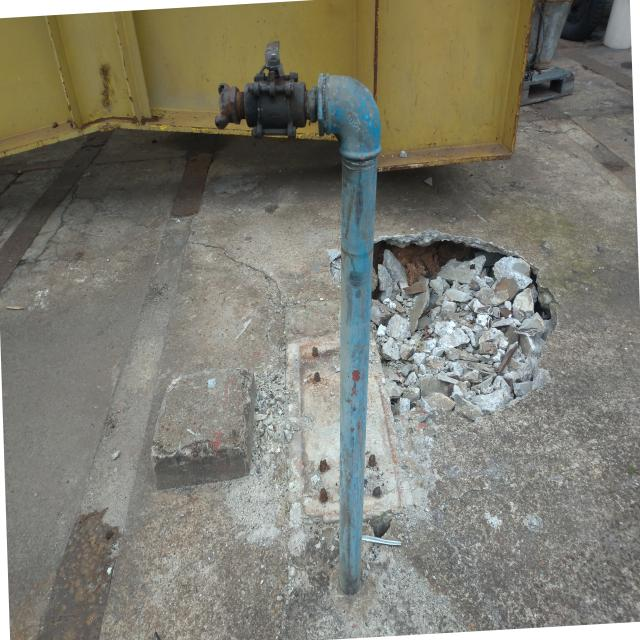gas: (336, 154, 378, 592)
